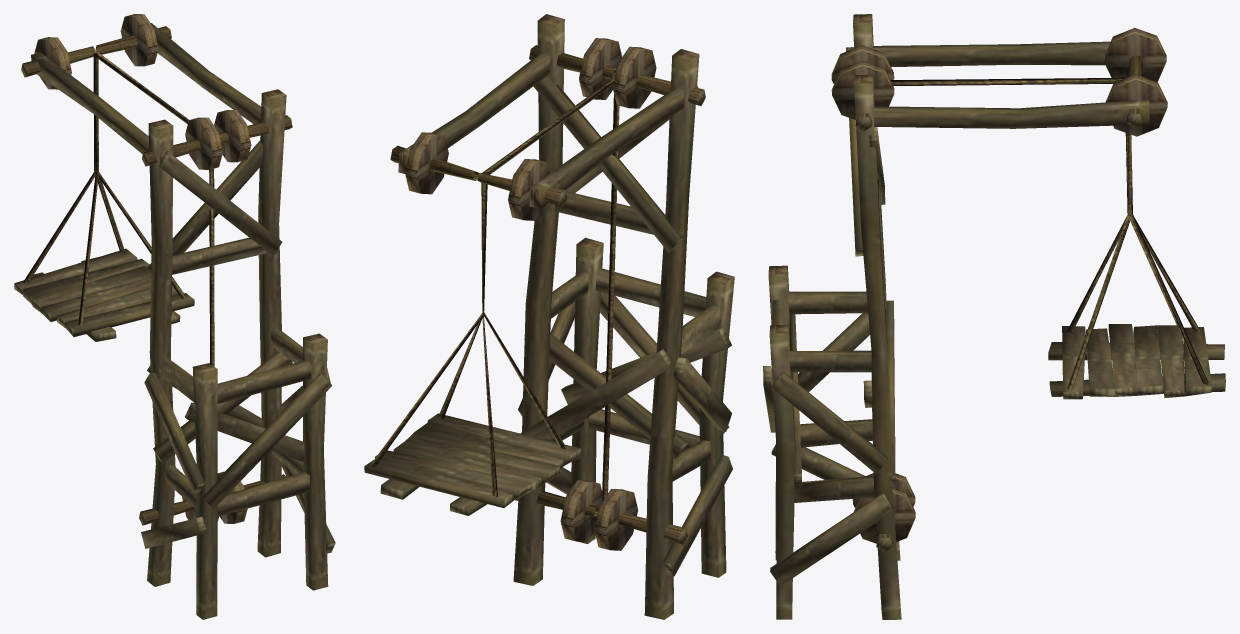
File: S_Build_West060.FBX
The picture shows the model from 3 angles, left to right: view 1: azimuth 30°, elevation 25°; view 2: azimuth 150°, elevation 25°; view 3: azimuth 270°, elevation 25°; orthographic projection. The views are drawn at different scales.
Parts seen in each view (by area): view 1: S_Build_West060; view 2: S_Build_West060; view 3: S_Build_West060.
Part boxes in pixels (x1,y1,x2,y2): S_Build_West060: [14, 14, 335, 619]; S_Build_West060: [364, 14, 734, 619]; S_Build_West060: [763, 14, 1225, 619].
Bounding box in the file's own units: 161 × 377 × 481.
